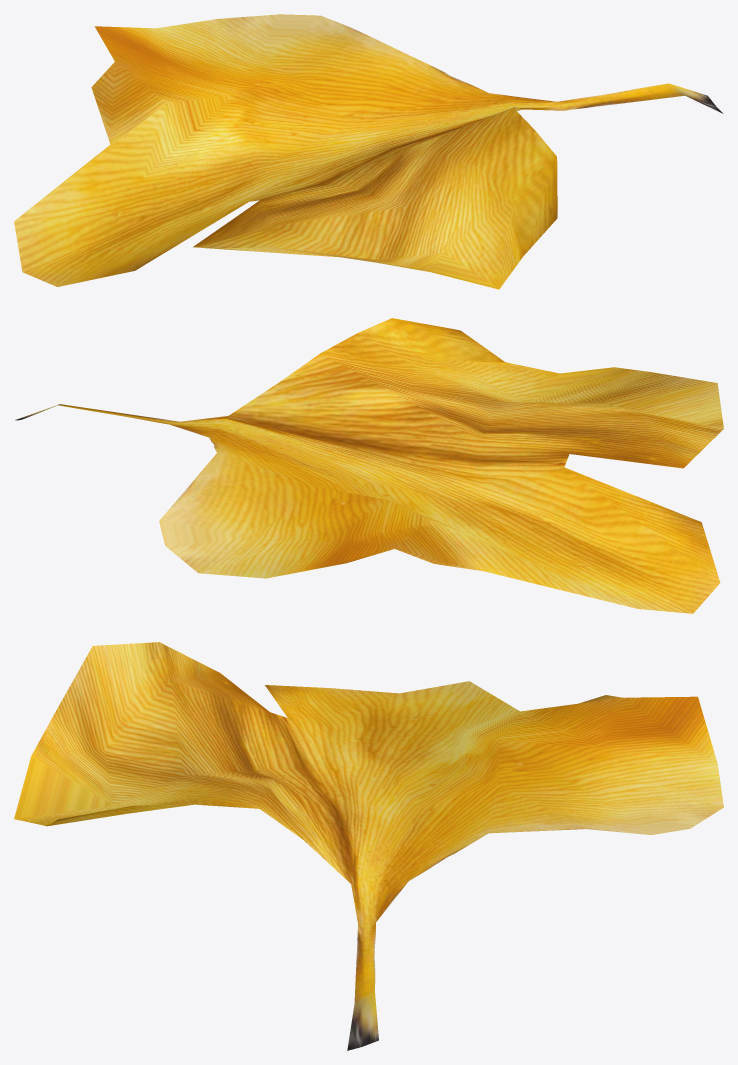
The model's file is GinkoPetal_1.fbx.
The picture shows the model from 3 angles, top to bottom: view 1: azimuth 30°, elevation 25°; view 2: azimuth 150°, elevation 25°; view 3: azimuth 270°, elevation 25°; orthographic projection. The views are drawn at different scales.
Parts seen in each view (by area): view 1: Ginko_petal1; view 2: Ginko_petal1; view 3: Ginko_petal1.
Boxes of the visible parts, x1=… form: Ginko_petal1: x1=14, y1=14, x2=723, y2=289; Ginko_petal1: x1=15, y1=318, x2=723, y2=613; Ginko_petal1: x1=14, y1=642, x2=723, y2=1050.
Bounding box in the file's own units: 91.75 × 13.67 × 74.73.
